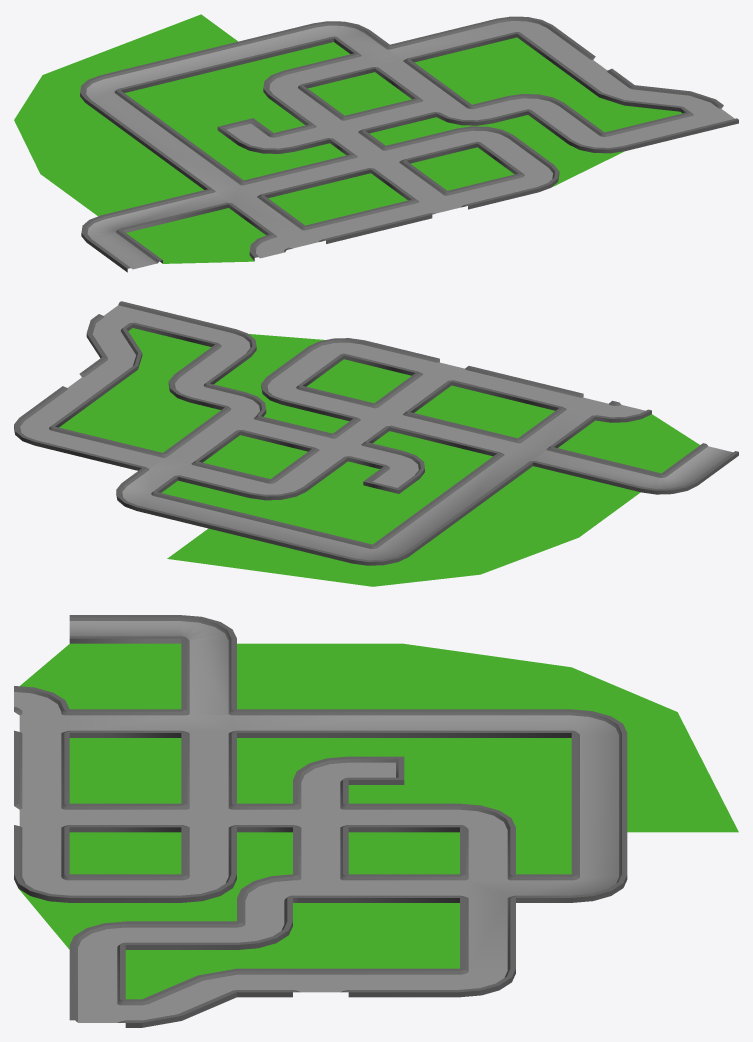
The model's file is Map01.fbx.
3 views of the same model, one above another, from view 1: azimuth 30°, elevation 25°; view 2: azimuth 150°, elevation 25°; view 3: azimuth 270°, elevation 25° (orthographic). The views are drawn at different scales.
Visible parts, largest first — view 1: Cube; view 2: Cube; view 3: Cube.
Part boxes in pixels (x1,y1,x2,y2): Cube: (14, 14, 738, 272); Cube: (14, 301, 738, 586); Cube: (14, 615, 738, 1027).
Bounding box in the file's own units: 173 × 1 × 130.
